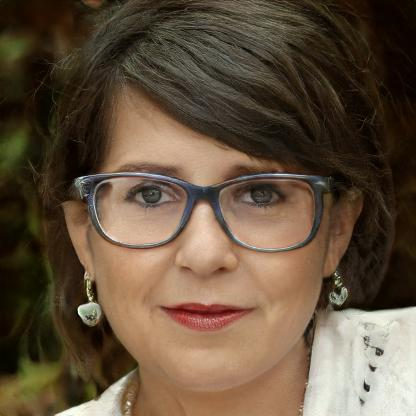glasses: (75, 169, 331, 254)
